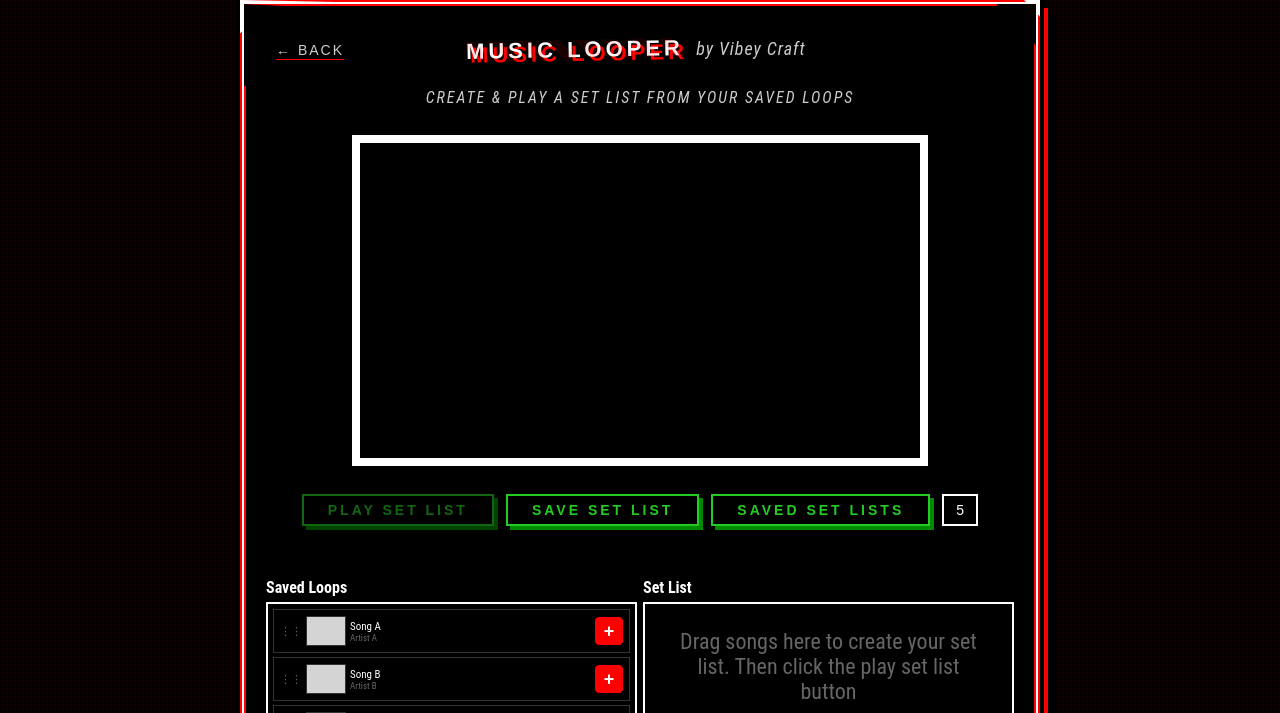
SetList save UX › switches working list, loaded identity, and dirty state together when loading a different saved set list
This screenshot has width=1280, height=713.
Click the button "Saved Set Lists" at (821, 510), box [711,494,930,526]
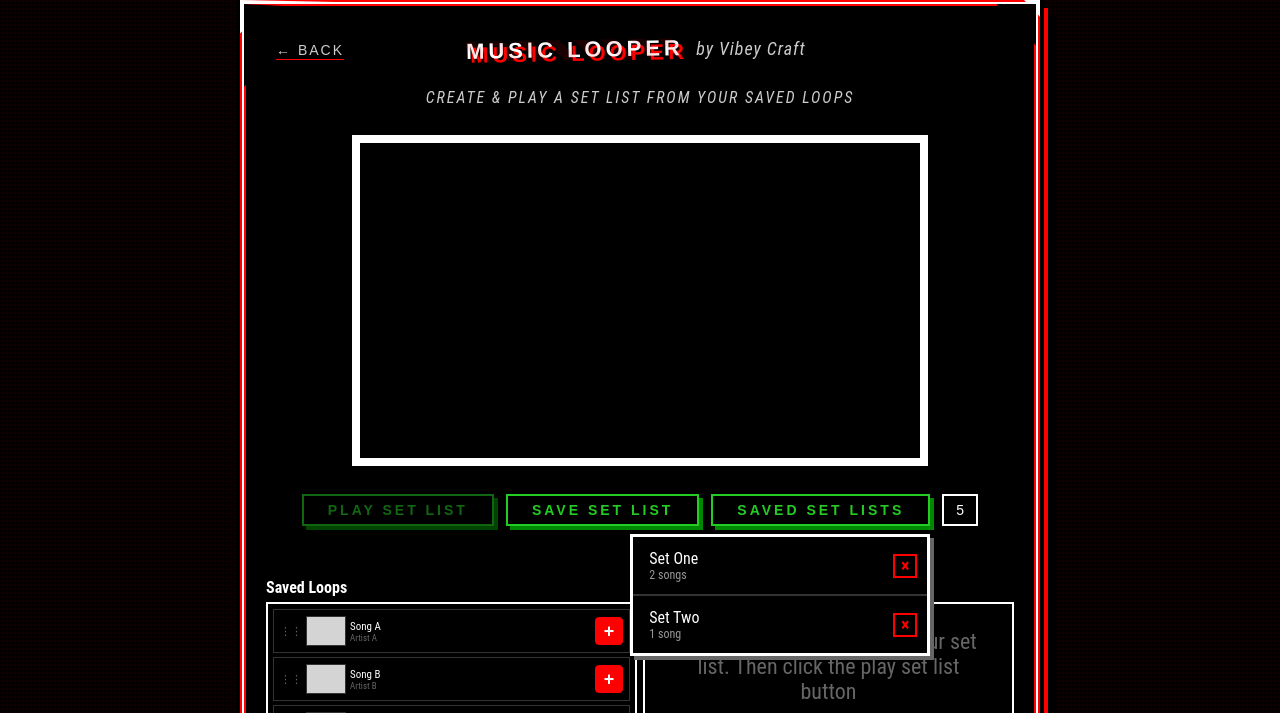
expect the text "Set One" is shown: met
Click the text "Set One" at (674, 558), box [649,549,698,568]
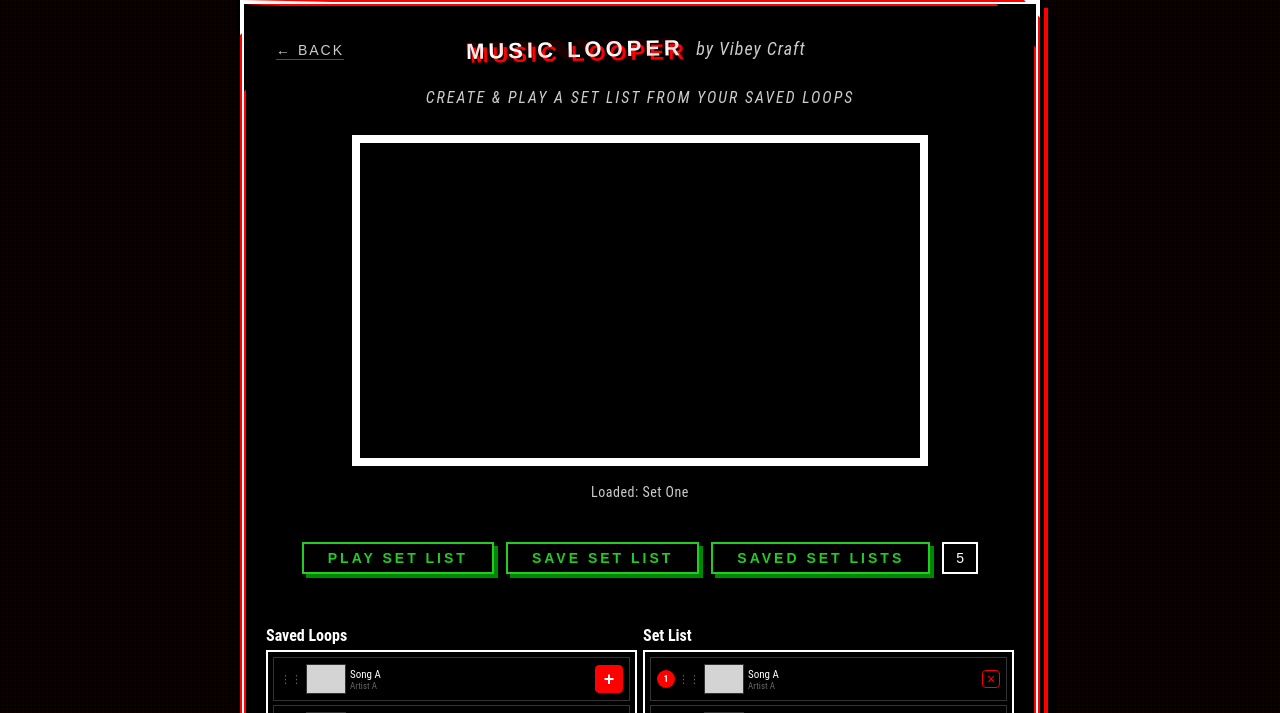
Click the 1st button titled "remove from set list" at (991, 679), box [982,670,1000,688]
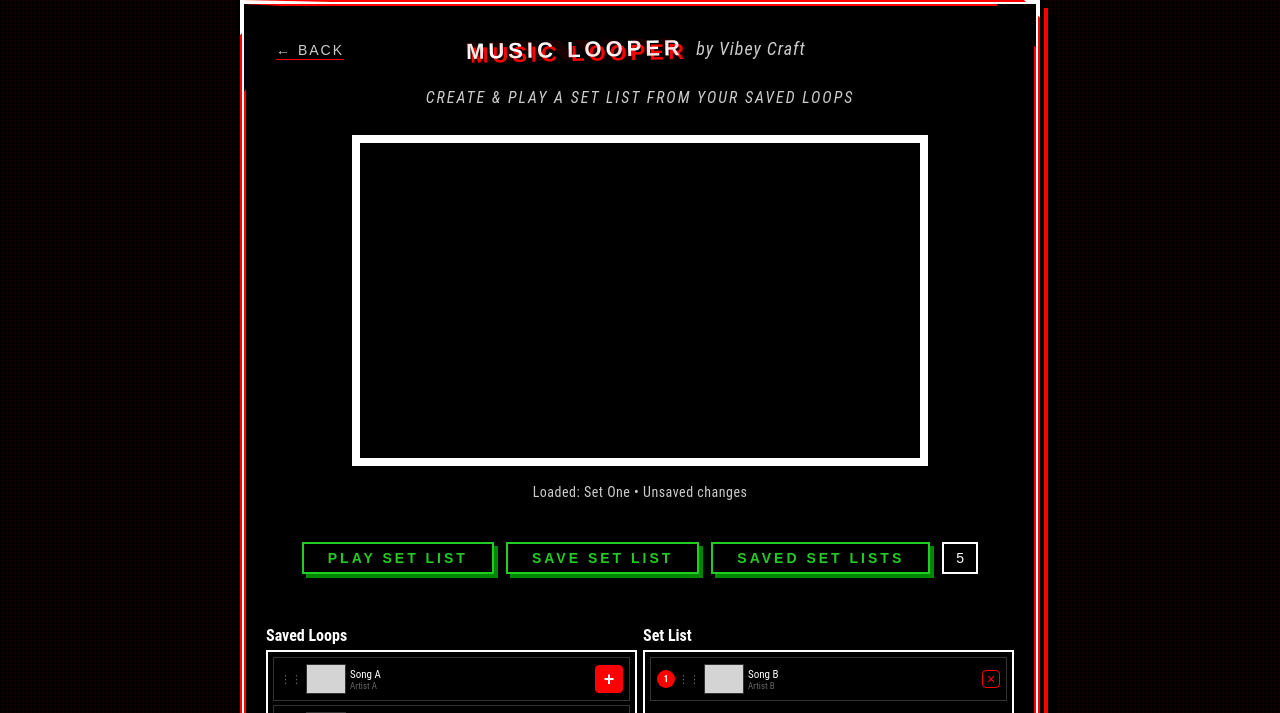
expect the text "Loaded: Set One • Unsaved changes" is shown: met, box [533,484,747,500]
Click the button "Saved Set Lists" at (821, 558), box [711,542,930,574]
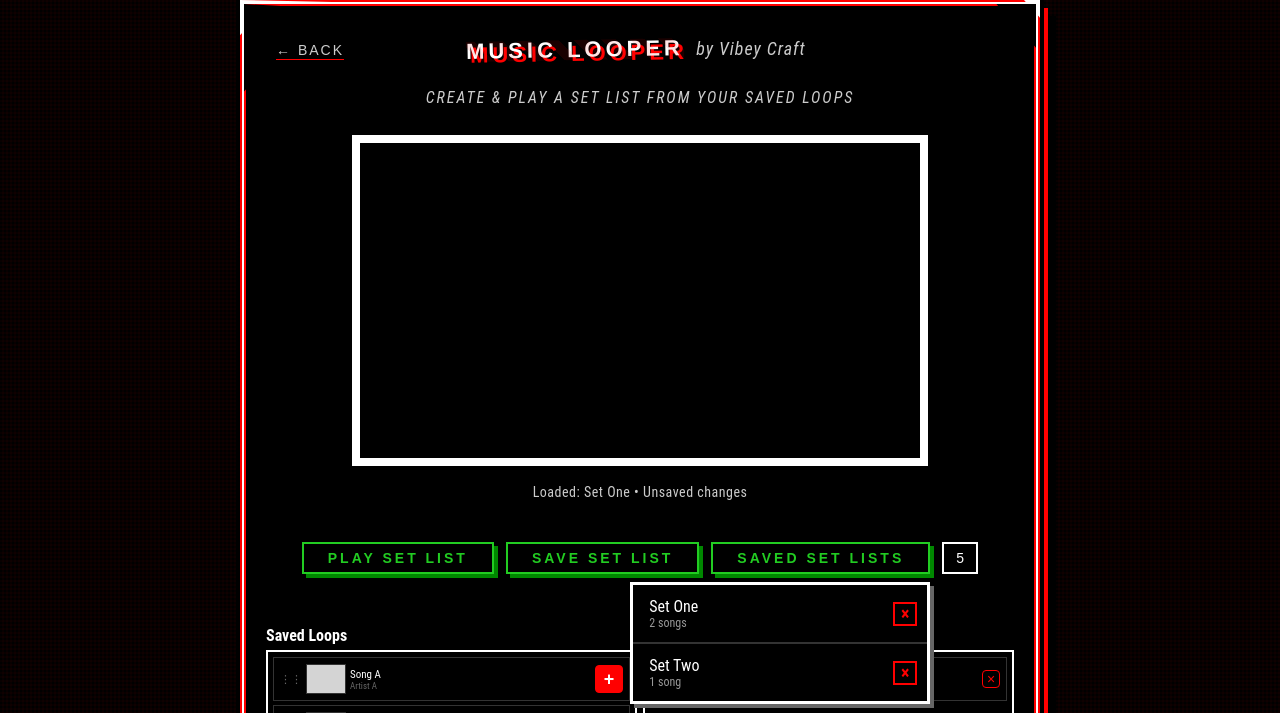
expect the text "Set Two" is shown: met
Click the text "Set Two" at (674, 666), box [649,656,699,675]
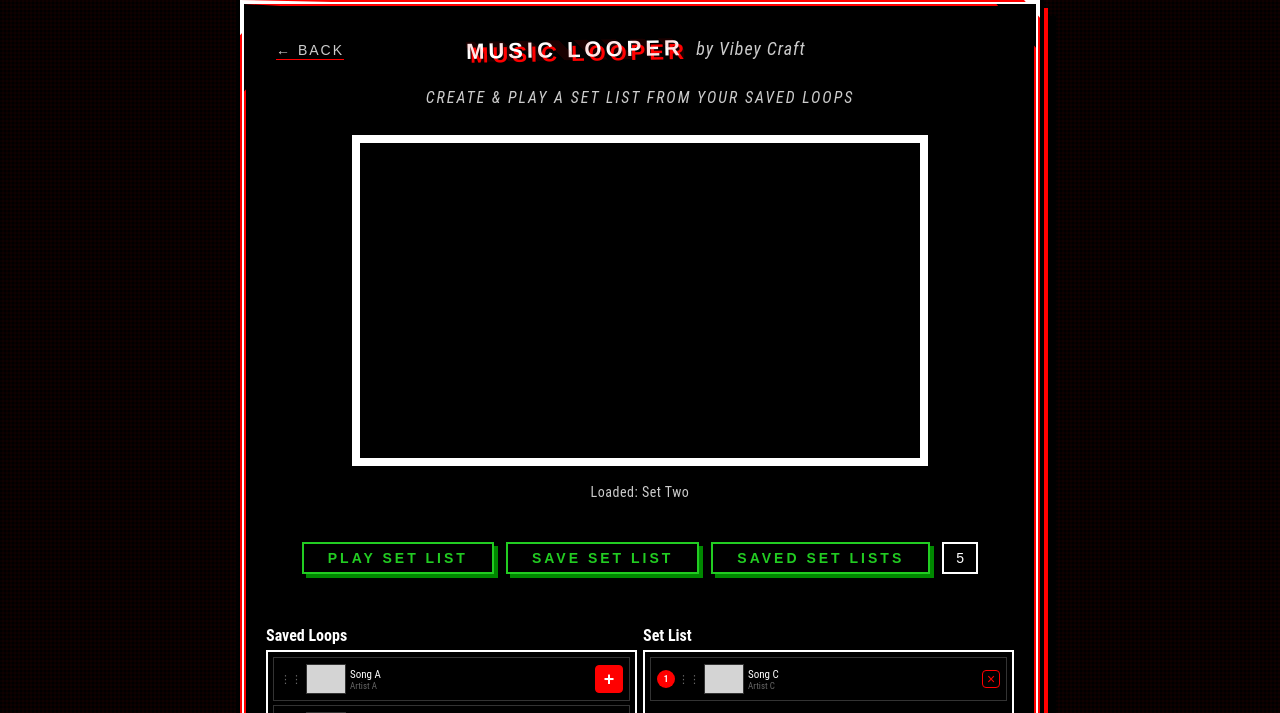
expect the text "Loaded: Set Two" is shown: met, box [591,484,689,500]
expect the text "Unsaved changes" is gone: met
